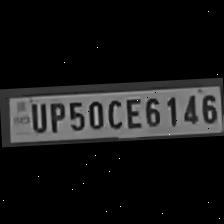0: (84, 97, 104, 130)
1: (161, 93, 179, 127)
4: (178, 91, 200, 125)
5: (64, 98, 86, 132)
6: (140, 94, 162, 128), (198, 92, 218, 124)
C: (104, 96, 122, 130)
E: (121, 95, 141, 129)
P: (45, 99, 65, 133)
U: (26, 99, 46, 133)
